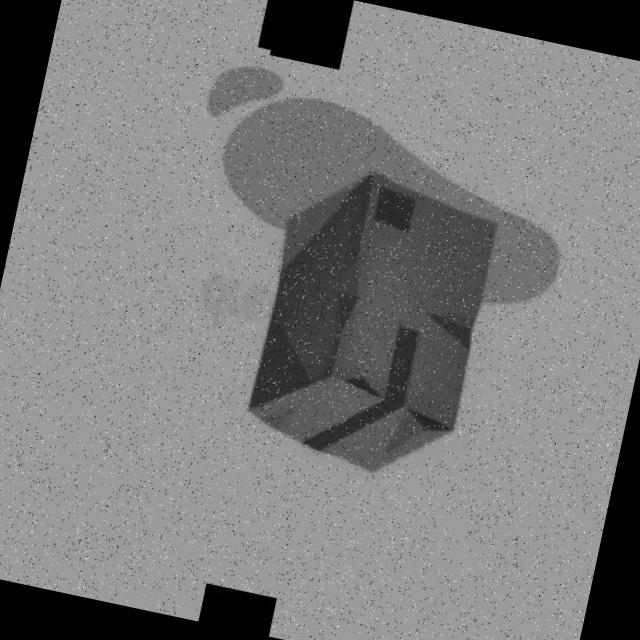box: (232, 148, 509, 490)
